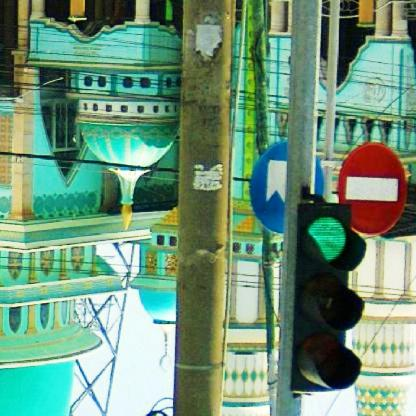Traffic Light -Green-: (297, 202, 365, 393)
